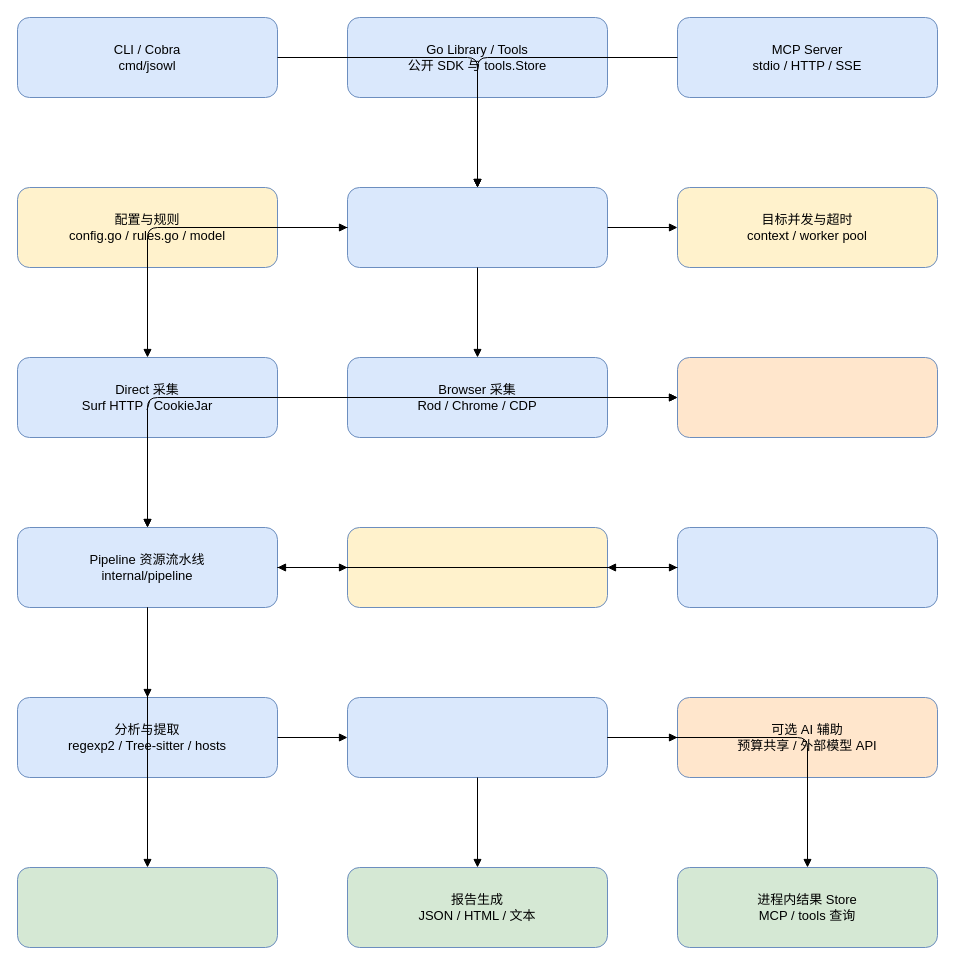
Image size: 955x965. Some labels were removed from this diagram. Here are the shapes that lost their labels. From the top down, the box of each, then its label:
(346, 186, 608, 268): Scanner 编排 Scan / ScanBatch / 登录会话
(676, 356, 938, 438): 授权目标站点 HTML / JS / 运行时请求
(346, 526, 608, 608): Scope 与 Queue 作用域 / 去重 / 深度与数量
(676, 526, 938, 608): 资源发现 Webpack / RequireJS / source map
(346, 696, 608, 778): 结果聚合 API / 参数 / 路由 / 敏感信息
(16, 866, 278, 948): 脚本存储 internal/storage
